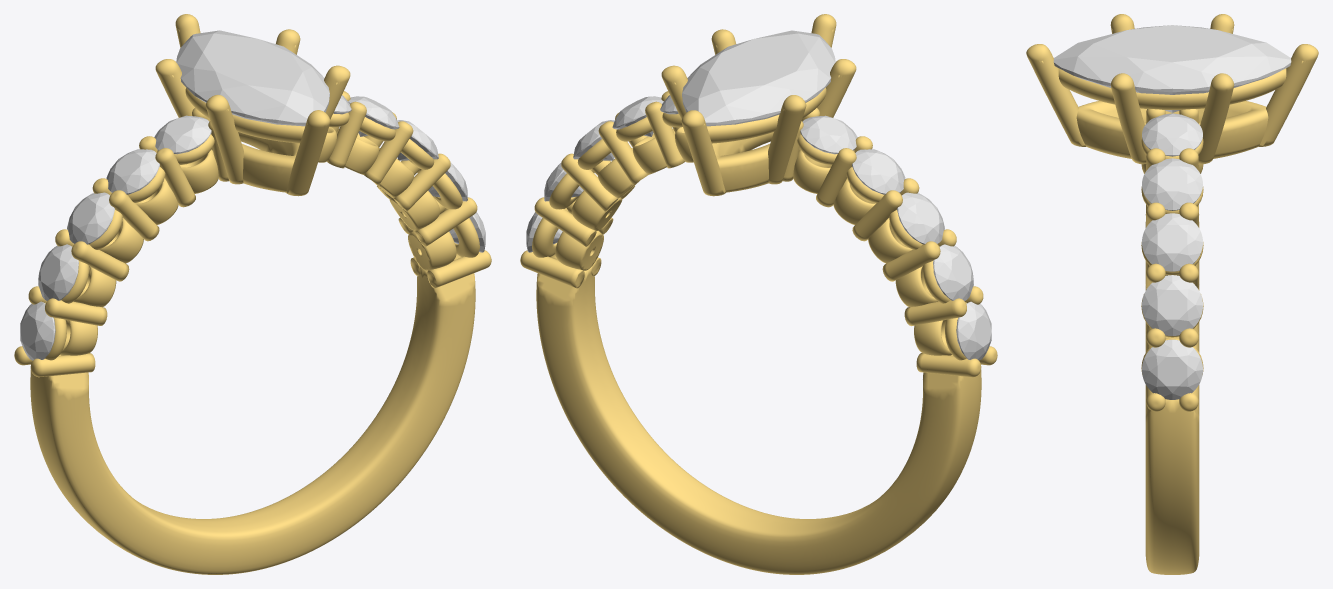
Rendered from diamond-marquise-yellowgold-6prong-straightband-11stone.glb.
3 views of the same model, side by side, from view 1: azimuth 30°, elevation 25°; view 2: azimuth 150°, elevation 25°; view 3: azimuth 270°, elevation 25° (orthographic).
Parts seen in each view (by area): view 1: metal.001, stone.001, side.012, side.011, side.013, side.010, side.014, side.018; view 2: metal.001, stone.001, side.012, side.011, side.013, side.010, side.014, side.018; view 3: metal.001, stone.001, side.016, side.015, side.017, side.018, side.019.
Boxes of the visible parts, x1=… form: metal.001: x1=14, y1=14, x2=491, y2=574; stone.001: x1=176, y1=30, x2=329, y2=126; side.012: x1=67, y1=192, x2=114, y2=244; side.011: x1=38, y1=244, x2=78, y2=300; side.013: x1=106, y1=149, x2=159, y2=194; side.010: x1=20, y1=301, x2=55, y2=360; side.014: x1=154, y1=115, x2=211, y2=154; side.018: x1=348, y1=96, x2=399, y2=136; metal.001: x1=520, y1=14, x2=997, y2=574; stone.001: x1=682, y1=30, x2=835, y2=126; side.012: x1=897, y1=192, x2=944, y2=244; side.011: x1=933, y1=244, x2=973, y2=300; side.013: x1=852, y1=149, x2=905, y2=194; side.010: x1=956, y1=301, x2=991, y2=360; side.014: x1=800, y1=115, x2=857, y2=154; side.018: x1=612, y1=96, x2=663, y2=136; metal.001: x1=1026, y1=14, x2=1318, y2=574; stone.001: x1=1053, y1=25, x2=1291, y2=112; side.016: x1=1142, y1=275, x2=1202, y2=335; side.015: x1=1142, y1=339, x2=1202, y2=399; side.017: x1=1142, y1=213, x2=1202, y2=271; side.018: x1=1142, y1=158, x2=1202, y2=210; side.019: x1=1142, y1=113, x2=1202, y2=156.
Size of the model in its own units: 21.88 by 22.94 by 11.96.
